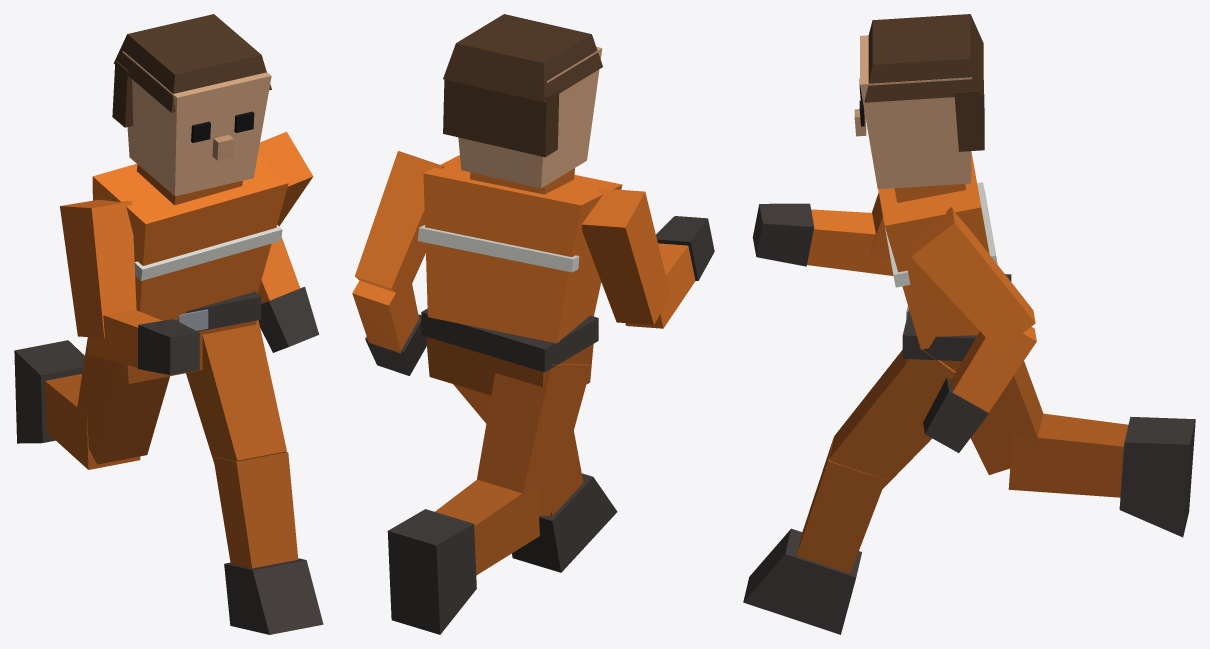
File: character_pose_5.obj
The picture shows the model from 3 angles, left to right: view 1: azimuth 30°, elevation 25°; view 2: azimuth 150°, elevation 25°; view 3: azimuth 270°, elevation 25°; orthographic projection. The views are drawn at different scales.
Bounding box in the file's own units: 0.6332 × 1.35 × 0.9666.
